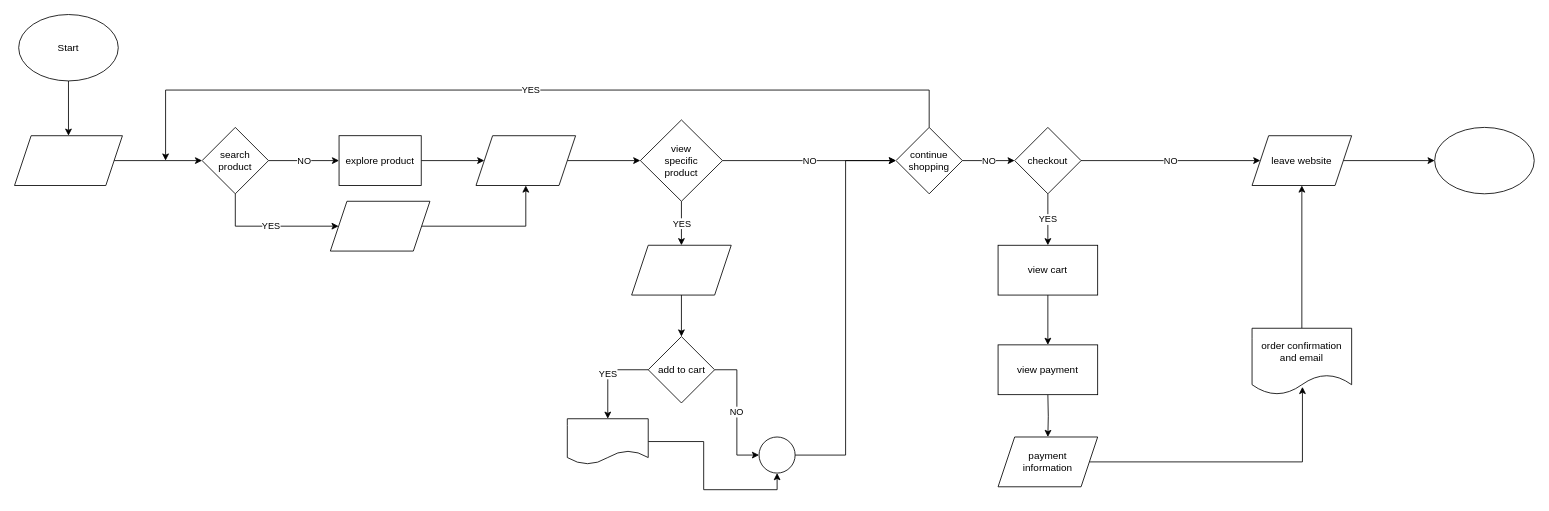
The diagram is 1549 pixels wide and 511 high, and some of its shapes have lost their labels. Here are the shapes that lost their labels. From the top down, the centre of each, then its label:
(68,160): entering Website
(525,160): view product
(1484,160): END
(380,225): information to website
(681,269): entering product page
(607,441): confirmation
